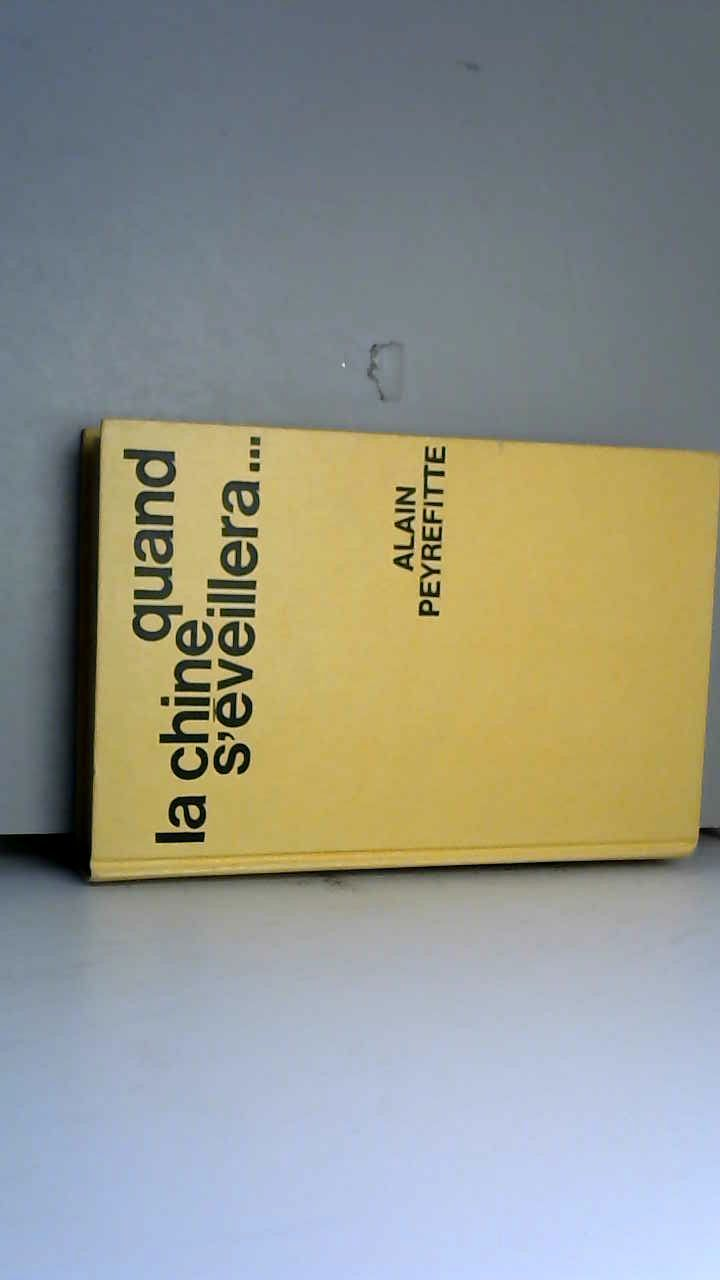book: (57, 396, 720, 903)
